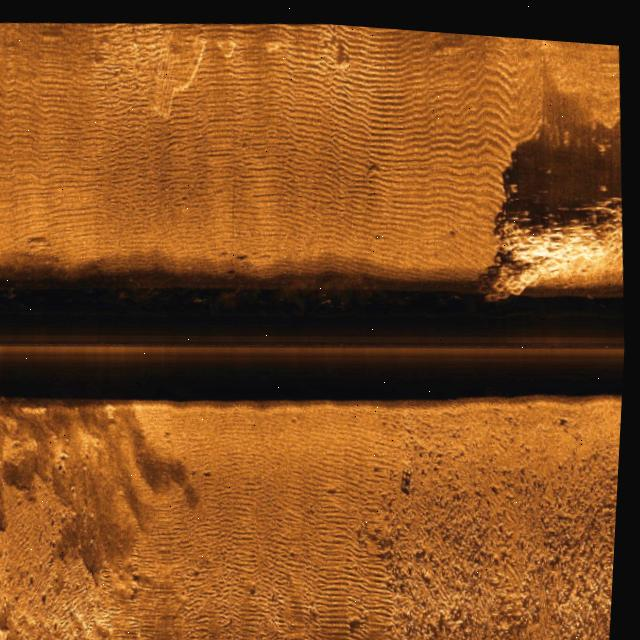artificial reef: (474, 172, 631, 307)
